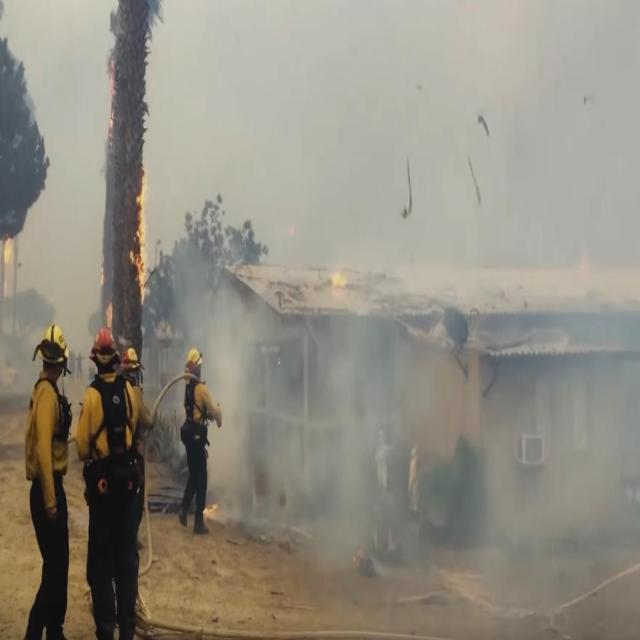Fire: (132, 156, 149, 298), (103, 300, 114, 330), (2, 237, 14, 264), (204, 496, 217, 517)
Smoke: (180, 241, 640, 551)
